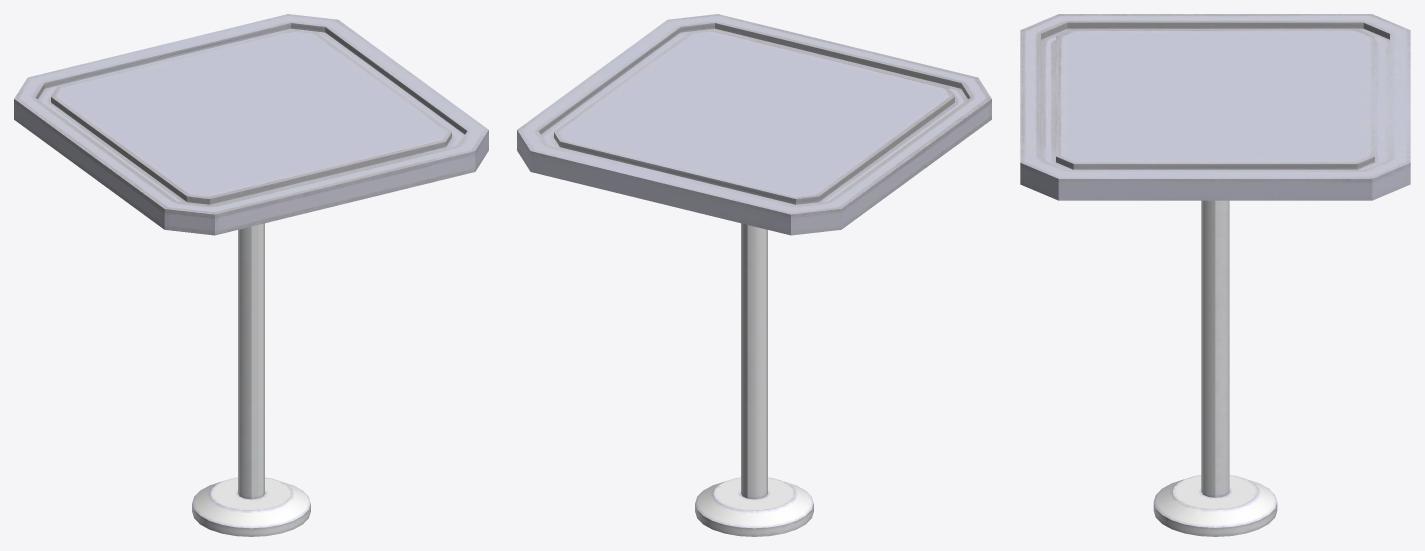
File: Furn_Table_2.glb
3 views of the same model, side by side, from view 1: azimuth 30°, elevation 25°; view 2: azimuth 150°, elevation 25°; view 3: azimuth 270°, elevation 25° (orthographic). The views are drawn at different scales.
Parts seen in each view (by area): view 1: Furn_Table_2; view 2: Furn_Table_2; view 3: Furn_Table_2.
Part boxes in pixels (left/top/right/bottom): Furn_Table_2: left=14, top=14, right=488, bottom=536; Furn_Table_2: left=517, top=14, right=991, bottom=536; Furn_Table_2: left=1020, top=14, right=1410, bottom=536.
Bounding box in the file's own units: 0.9659 × 1.13 × 0.9659.
1 material, 1 textured.
